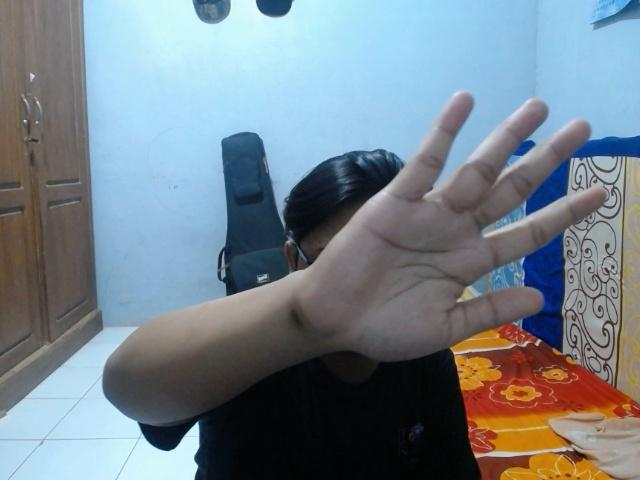Release: (291, 87, 609, 366)
